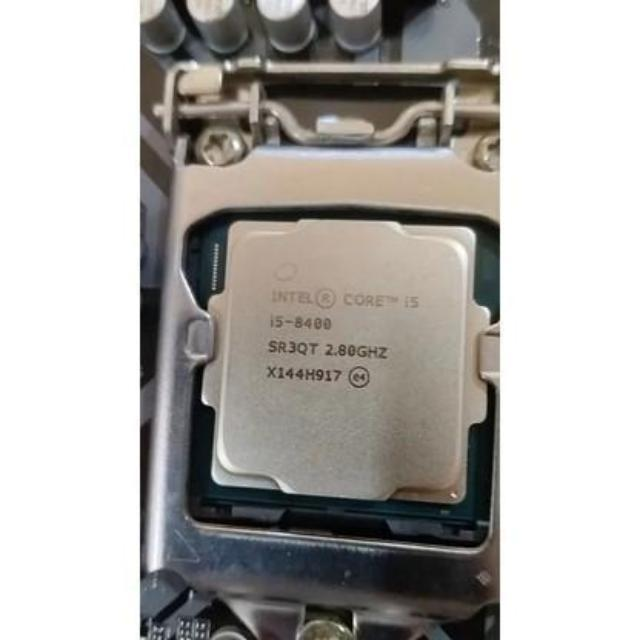CPU: (198, 204, 476, 518)
